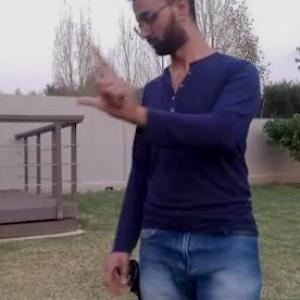land_hand: (73, 42, 147, 110)
